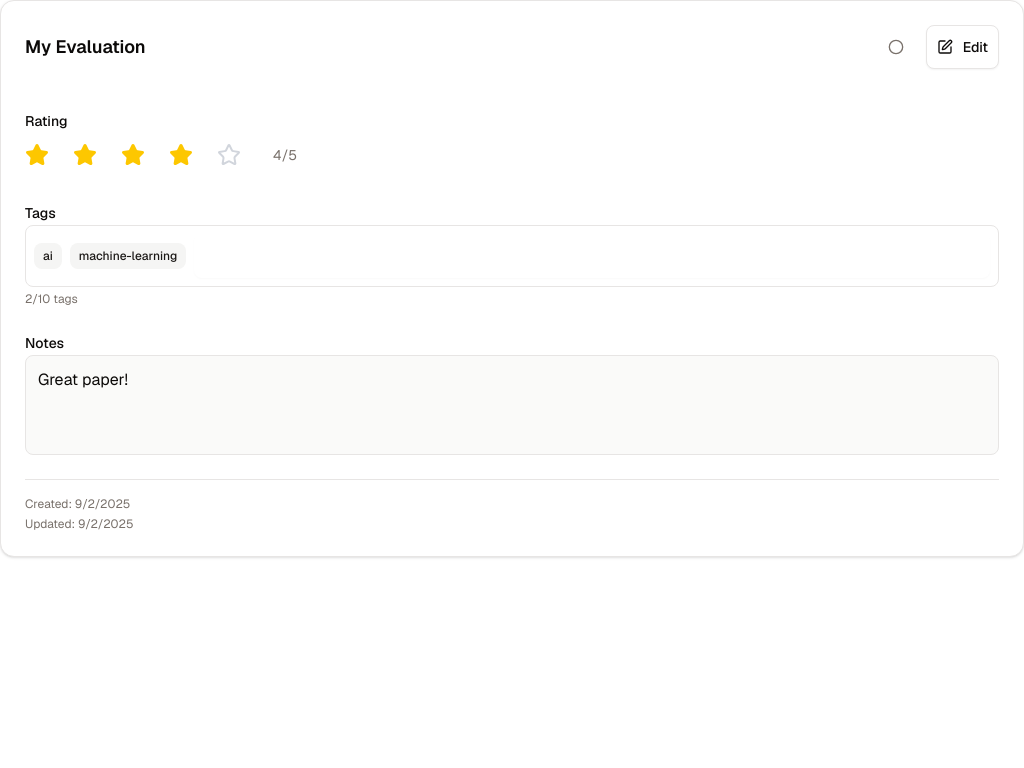
it: UserEvaluation › enters edit mode when edit button is clicked
Click the button "Edit".
click(962, 47)  # box [926,25,999,69]
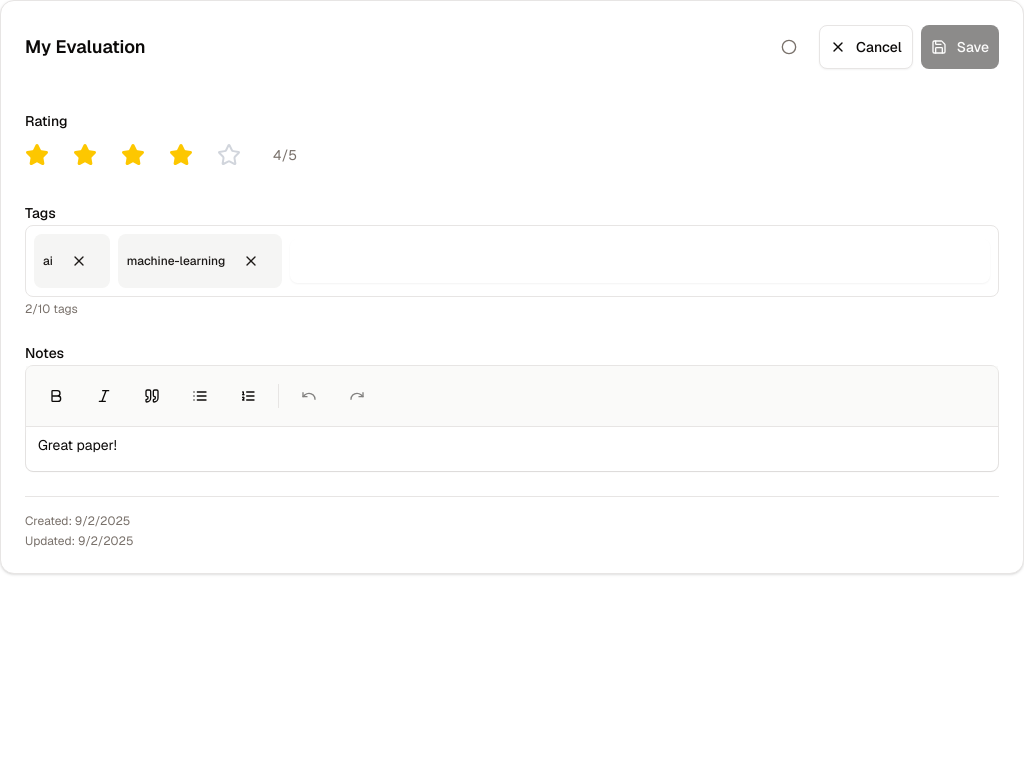
Result: the button "Save" is shown at [921,25,999,69]
Result: the button "Cancel" is shown at [819,25,913,69]
